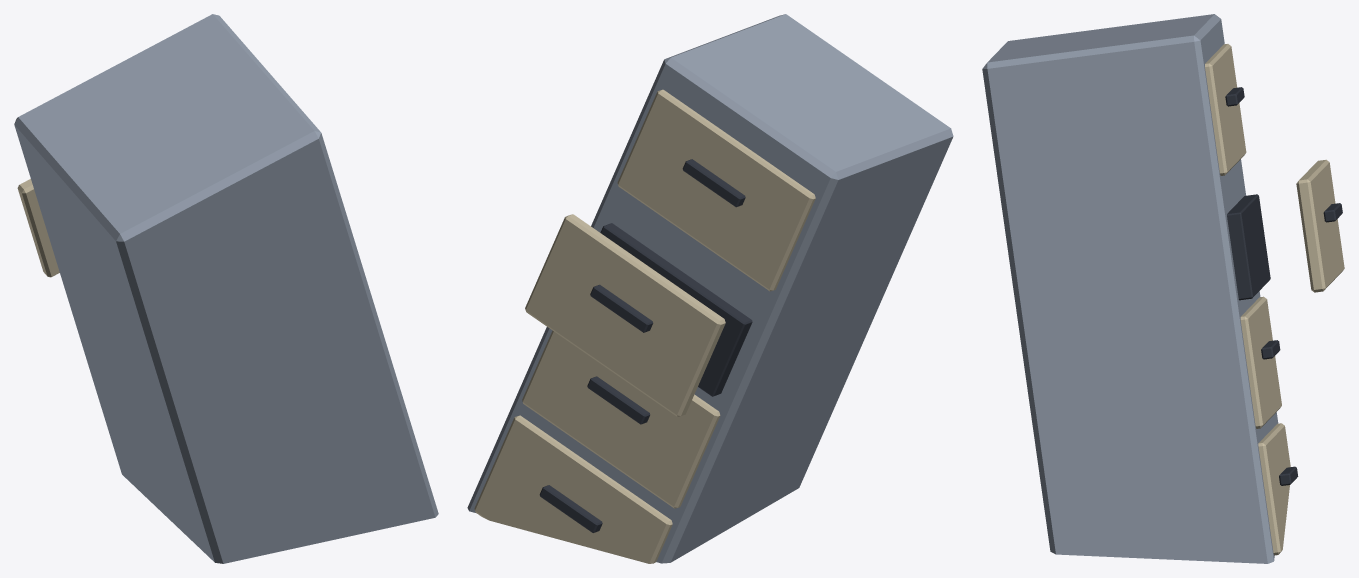
The model's file is noclipped_file_cabinet.obj.
3 renders of one model, left to right at view 1: azimuth 30°, elevation 25°; view 2: azimuth 150°, elevation 25°; view 3: azimuth 270°, elevation 25°, orthographic. The views are drawn at different scales.
Parts seen in each view (by area): view 1: Shell, Drawer_2; view 2: Shell, Drawer_2, Drawer_3, Drawer_1, Drawer_0, OpenBox, Handle_3, Handle_1, Handle_2, Handle_0; view 3: Shell, Drawer_2, OpenBox, Drawer_1, Drawer_3, Drawer_0.
Part boxes in pixels (x1,y1,x2,y2): Shell: (14,14,438,563); Drawer_2: (17,179,59,277); Shell: (467,14,953,563); Drawer_2: (525,214,725,416); Drawer_3: (617,89,815,291); Drawer_1: (522,330,720,508); Drawer_0: (474,415,672,563); OpenBox: (600,223,752,396); Handle_3: (682,159,745,207); Handle_1: (587,376,650,424); Handle_2: (590,284,653,332); Handle_0: (539,485,602,532); Shell: (982,14,1278,563); Drawer_2: (1296,159,1344,292); OpenBox: (1227,194,1270,300); Drawer_1: (1240,296,1281,428); Drawer_3: (1205,44,1246,175); Drawer_0: (1258,423,1290,555).
Size of the model in its own units: 1.36 by 1.7 by 1.24.
